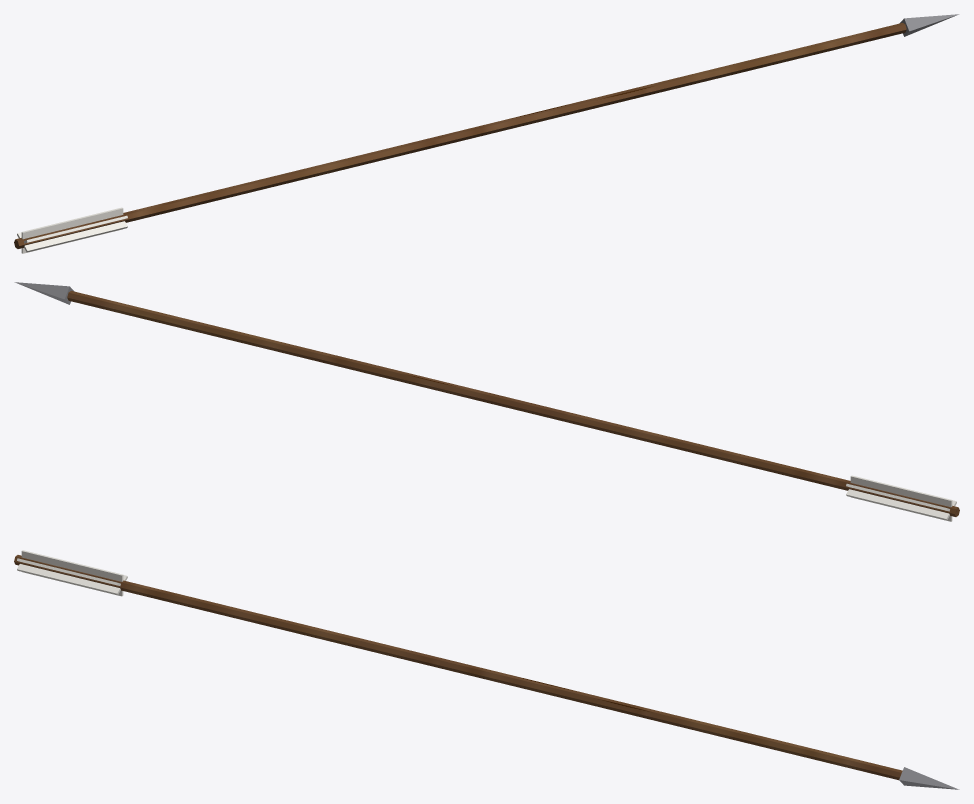
Rendered from arrow.glb.
3 views of the same model, one above another, from view 1: azimuth 30°, elevation 25°; view 2: azimuth 150°, elevation 25°; view 3: azimuth 330°, elevation 25° (orthographic).
Visible parts, largest first — view 1: Arrow; view 2: Arrow; view 3: Arrow.
Boxes of the visible parts, x1,y1,x2,y2 form: Arrow: (14, 14, 959, 253); Arrow: (14, 282, 959, 521); Arrow: (14, 550, 959, 789).
Size of the model in its own units: 0.845 by 0.0179 by 0.0166.
Materials: 3 (1 with a texture image).
